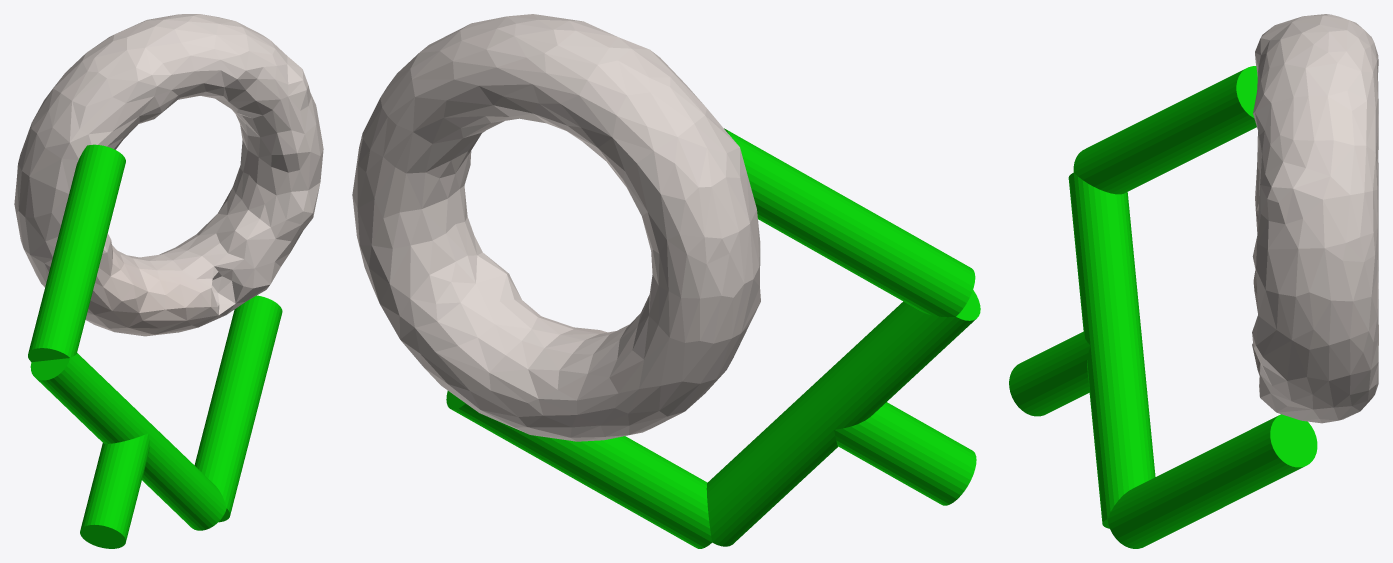
File: round_000_trial_001.obj
3 renders of one model, left to right at view 1: azimuth 30°, elevation 25°; view 2: azimuth 150°, elevation 25°; view 3: azimuth 270°, elevation 25°, orthographic. The views are drawn at different scales.
Visible parts, largest first — view 1: geometry_0, geometry_1; view 2: geometry_0, geometry_1; view 3: geometry_0, geometry_1.
Boxes of the visible parts, <box> form: geometry_0: <box>14,14,323,336</box>; geometry_1: <box>28,144,282,548</box>; geometry_0: <box>352,14,760,441</box>; geometry_1: <box>446,128,980,548</box>; geometry_0: <box>1252,14,1378,423</box>; geometry_1: <box>1009,66,1317,548</box>.
Size of the model in its own units: 0.0909 by 0.1024 by 0.0643.
